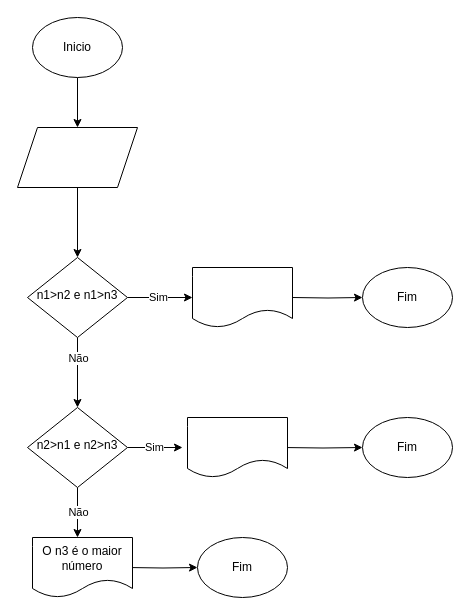
The diagram is 470 pixels wide and 615 high, and some of its shapes have lost their labels. Here are the shapes that lost their labels. From the top down, the centre of each, then its label:
At pixel 77 157: "n1, n2, n3".
At pixel 242 297: "O n1 é o maior número".
At pixel 237 447: "O n2 é o maior número".
